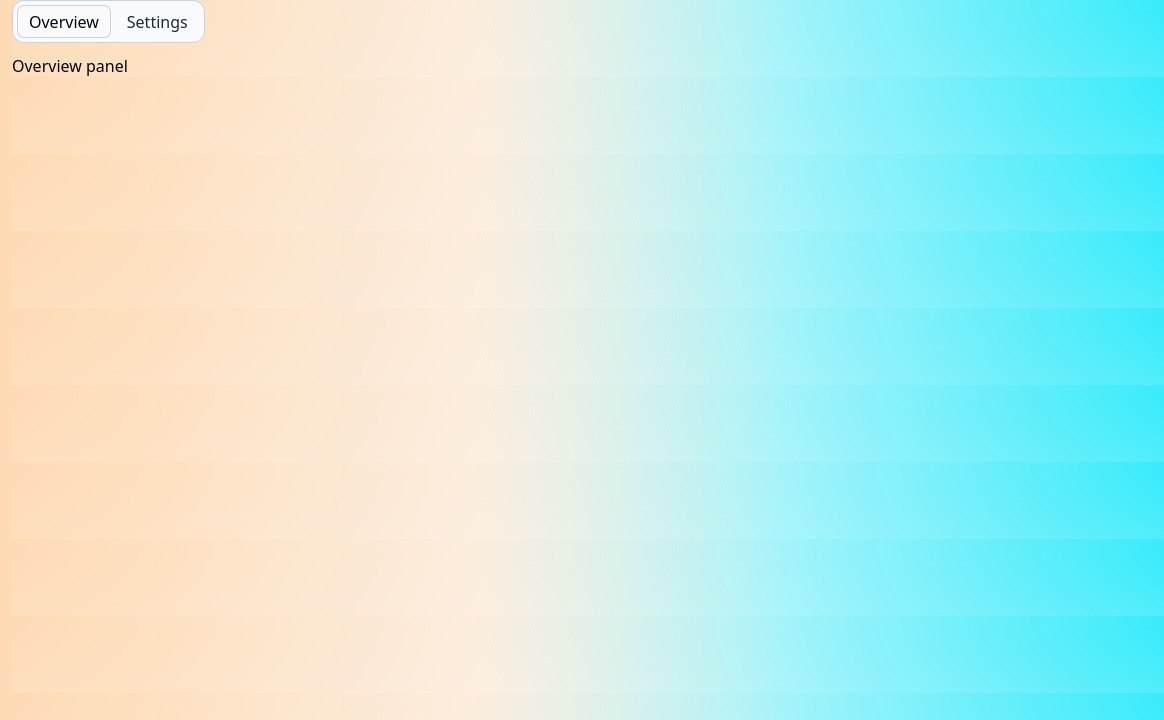
Tabs › switches active tab and panel
Expected: the text "Overview panel" is shown, top-left (12, 55), bottom-right (128, 77)
Expected: the text "Settings panel" is not shown
Click the tab "Settings": (157, 22) top-left (115, 5), bottom-right (200, 38)
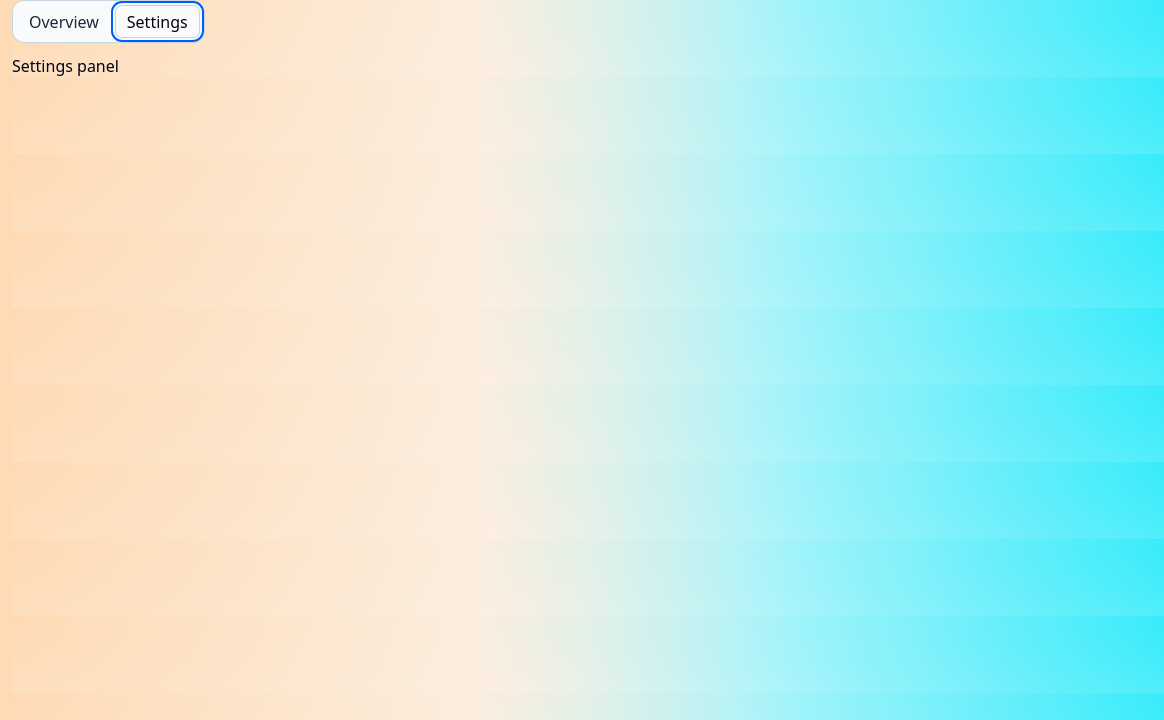
Expected: the text "Settings panel" is shown, top-left (12, 55), bottom-right (119, 77)
Expected: the text "Overview panel" is gone
